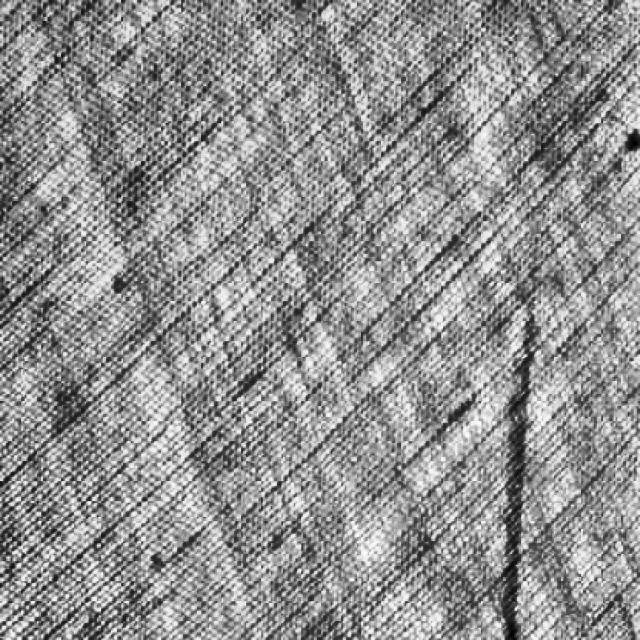oil_spot: (481, 271, 553, 640)
